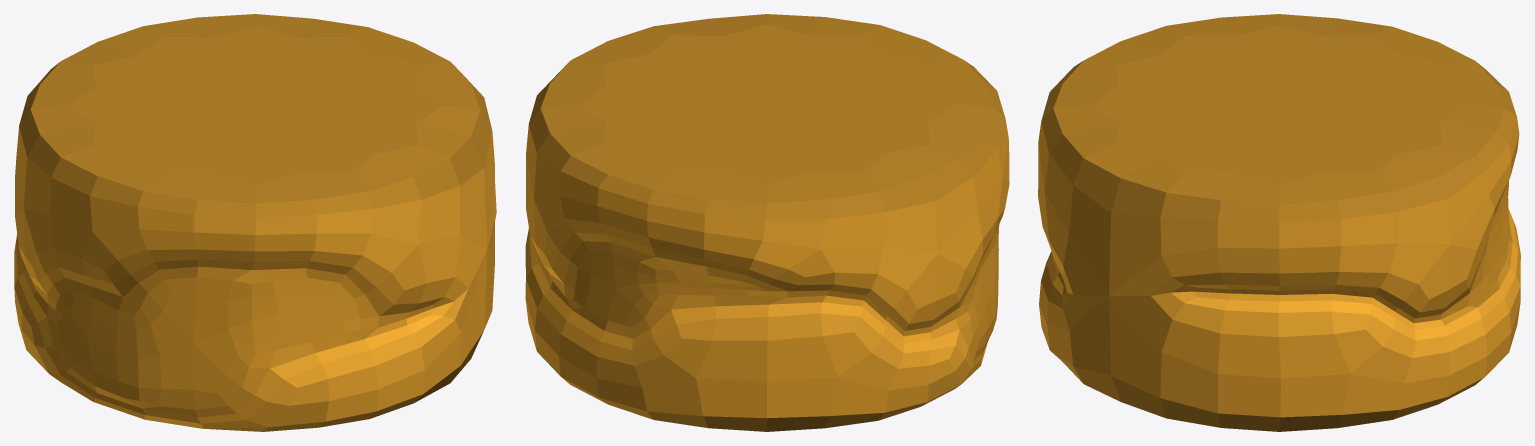
The model's file is Biscuit.fbx.
3 views of the same model, side by side, from view 1: azimuth 30°, elevation 25°; view 2: azimuth 150°, elevation 25°; view 3: azimuth 270°, elevation 25° (orthographic).
Visible parts, largest first — view 1: Cylinder; view 2: Cylinder; view 3: Cylinder.
Boxes of the visible parts, x1,y1,x2,y2 form: Cylinder: (14, 14, 496, 431); Cylinder: (525, 14, 1009, 431); Cylinder: (1038, 14, 1520, 431).
Size of the model in its own units: 191 by 105 by 192.
